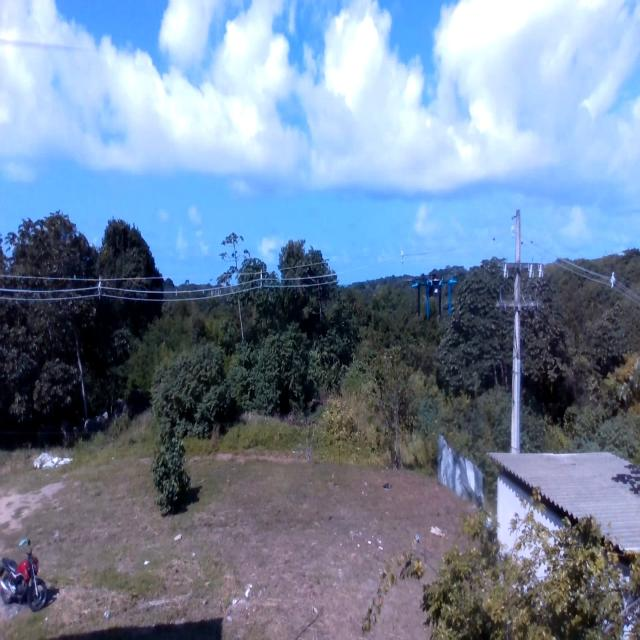-uav-: (406, 260, 464, 334)
